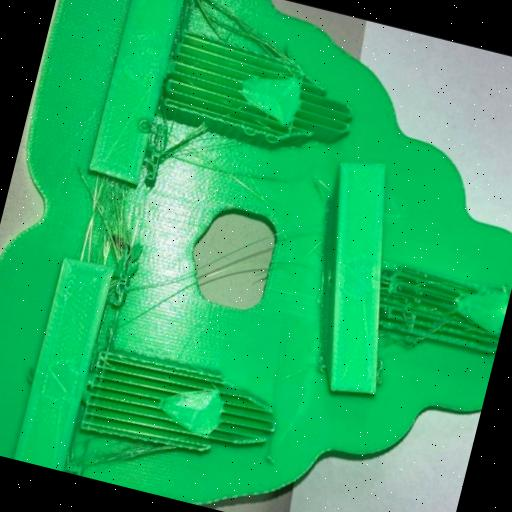stringing: (202, 0, 299, 67), (75, 179, 140, 267), (159, 122, 211, 169)
